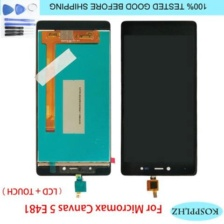phone: (32, 18, 114, 180), (119, 18, 201, 179)
